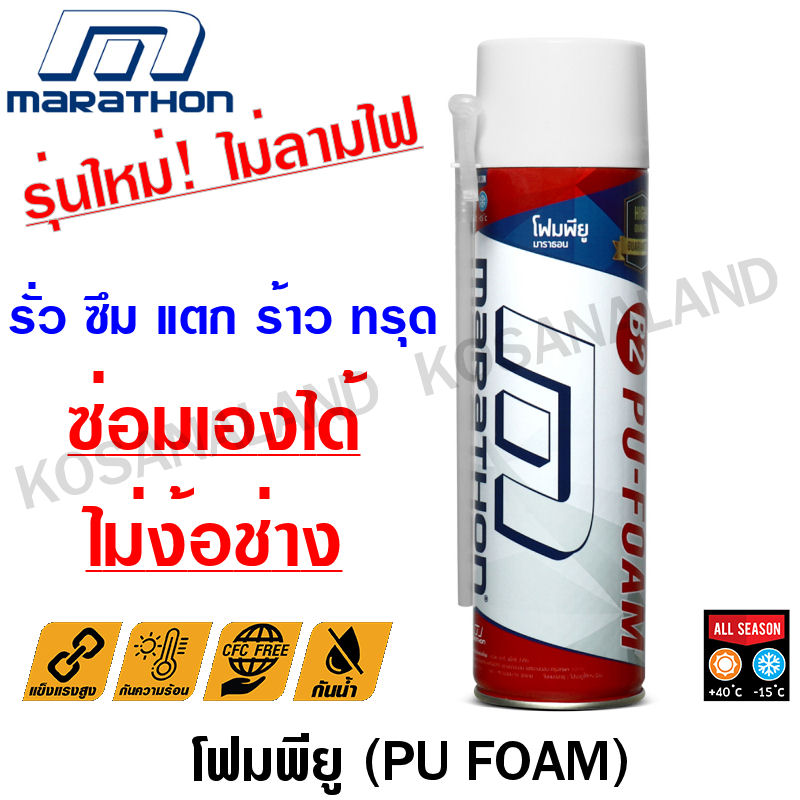Aerosol_cans: (469, 38, 652, 715)
